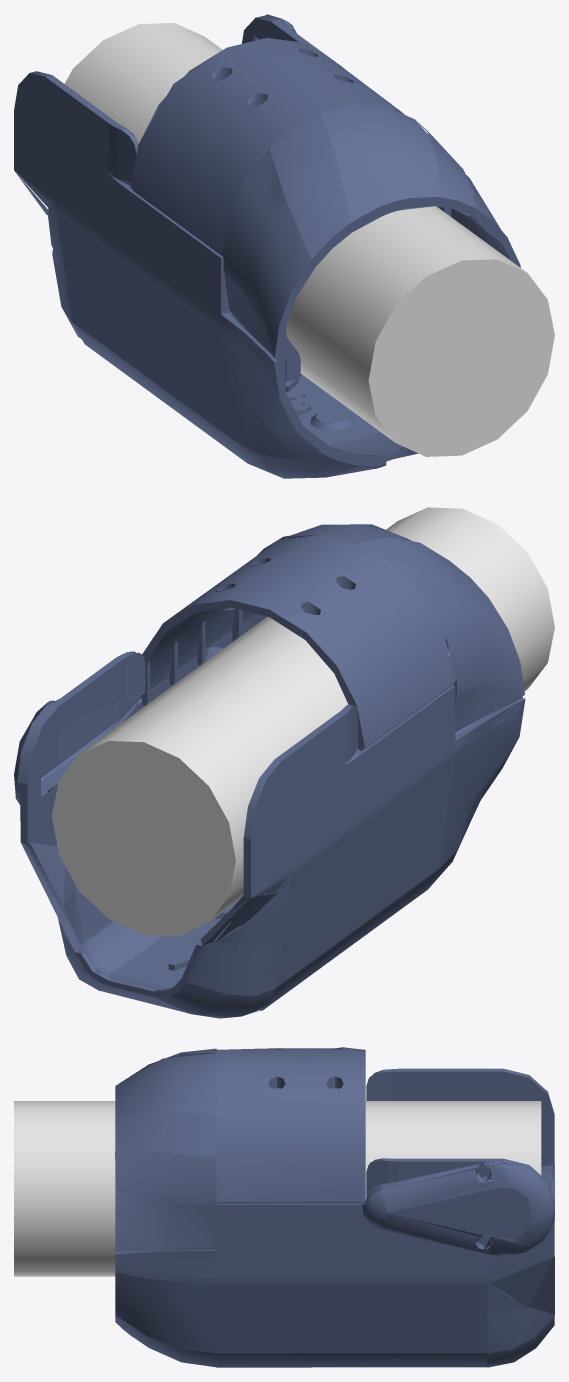
File: icub_r_upper_arm.glb
3 renders of one model, top to bottom at view 1: azimuth 30°, elevation 25°; view 2: azimuth 150°, elevation 25°; view 3: azimuth 270°, elevation 25°, orthographic. The views are drawn at different scales.
Parts seen in each view (by area): view 1: r_upperarm_mesh.001, r_arm_cyl_mesh, r_upperarm_mesh; view 2: r_upperarm_mesh.001, r_arm_cyl_mesh, r_upperarm_mesh; view 3: r_upperarm_mesh.001, r_upperarm_mesh, r_arm_cyl_mesh.
Part boxes in pixels (x1,y1,x2,y2): r_upperarm_mesh.001: (14,14,520,381); r_arm_cyl_mesh: (64,23,554,456); r_upperarm_mesh: (15,171,417,478); r_upperarm_mesh.001: (14,524,524,898); r_arm_cyl_mesh: (52,507,554,935); r_upperarm_mesh: (21,699,525,1018); r_upperarm_mesh.001: (115,1047,554,1283); r_upperarm_mesh: (115,1165,554,1367); r_arm_cyl_mesh: (14,1101,541,1276).
Size of the model in its own units: 0.0716 by 0.0916 by 0.1601.
